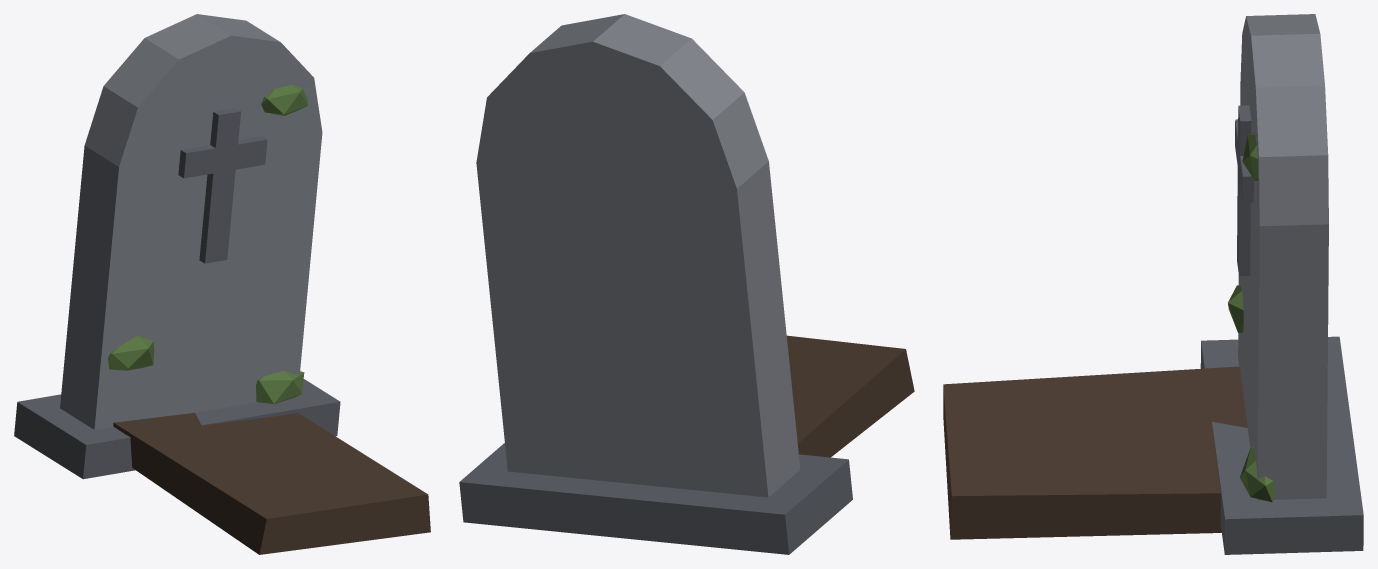
File: Tombstone.fbx
The picture shows the model from 3 angles, left to right: view 1: azimuth 30°, elevation 25°; view 2: azimuth 150°, elevation 25°; view 3: azimuth 270°, elevation 25°; orthographic projection. The views are drawn at different scales.
Parts seen in each view (by area): view 1: Tombstone; view 2: Tombstone; view 3: Tombstone.
Part boxes in pixels (left/top/right/bottom): Tombstone: left=14, top=14, right=430, bottom=554; Tombstone: left=459, top=14, right=914, bottom=554; Tombstone: left=943, top=14, right=1363, bottom=554.
Size of the model in its own units: 258 by 375 by 303.
1 material, 1 textured.
